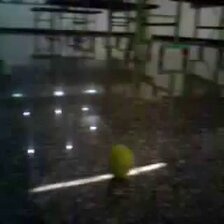tennis: (105, 144, 138, 181)
